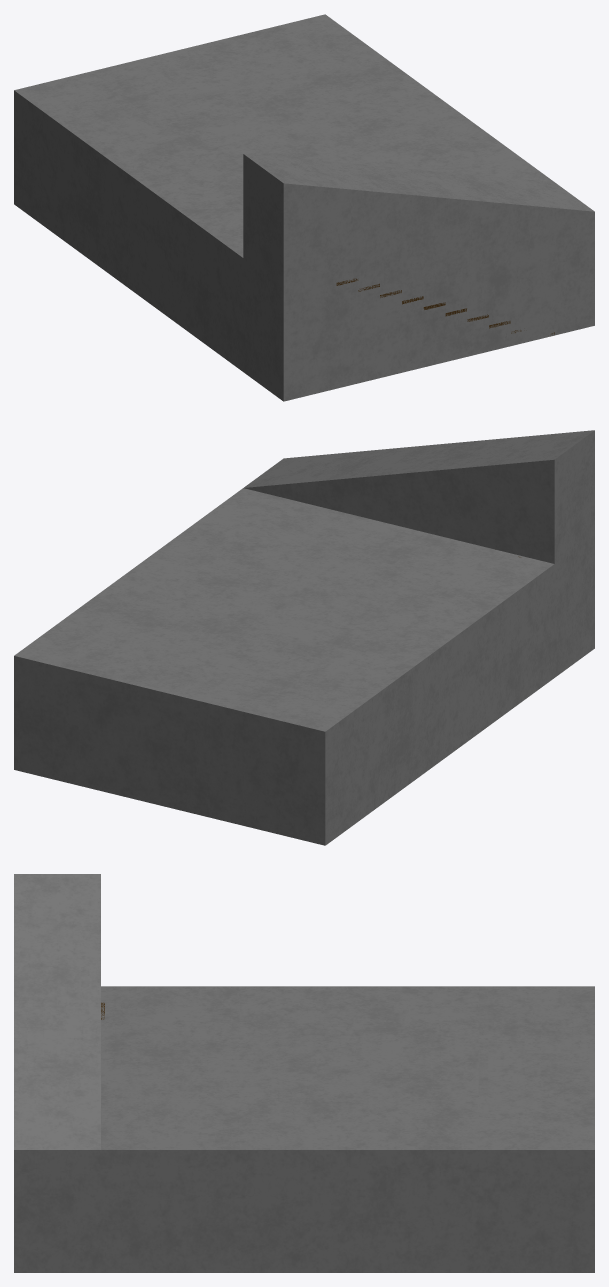
Rendered from Basement.fbx.
3 renders of one model, top to bottom at view 1: azimuth 30°, elevation 25°; view 2: azimuth 150°, elevation 25°; view 3: azimuth 270°, elevation 25°, orthographic. The views are drawn at different scales.
Visible parts, largest first — view 1: Basement; view 2: Basement; view 3: Basement.
Boxes of the visible parts, <box> form: Basement: <box>14,14,594,401</box>; Basement: <box>14,430,594,845</box>; Basement: <box>14,874,594,1272</box>.
Bounding box in the file's own units: 1000 × 670 × 1500.
